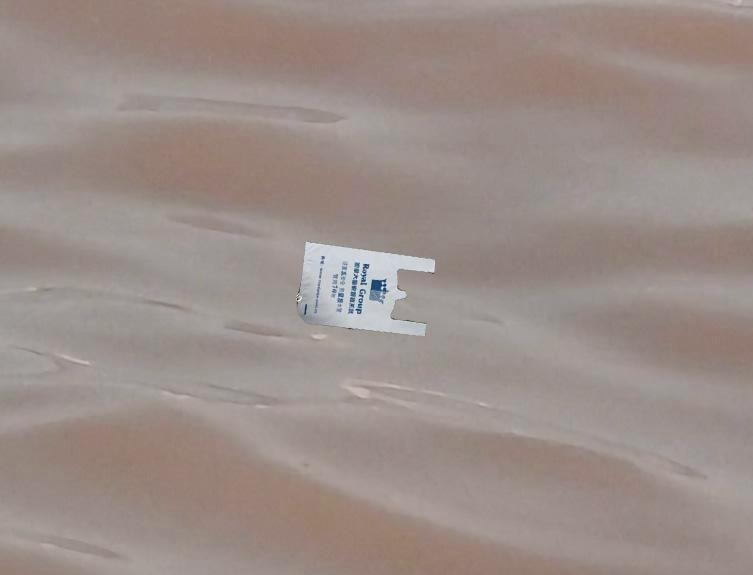Trash: (292, 240, 436, 343)
